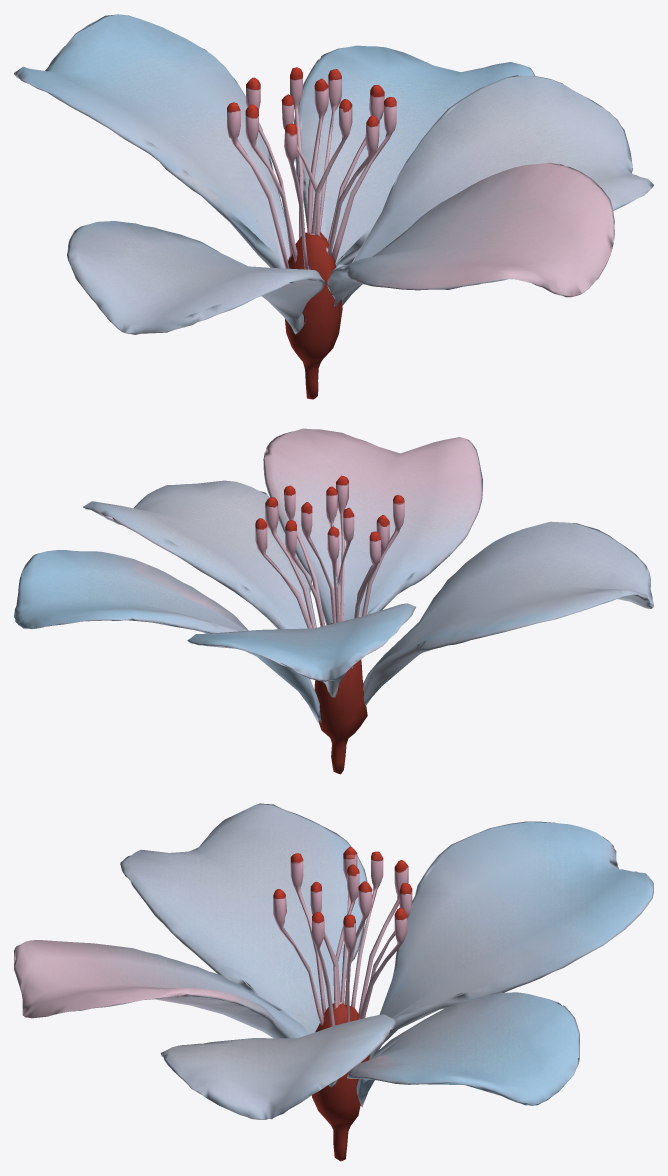
The model's file is bloom2.glb.
3 renders of one model, top to bottom at view 1: azimuth 30°, elevation 25°; view 2: azimuth 150°, elevation 25°; view 3: azimuth 270°, elevation 25°, orthographic. The views are drawn at different scales.
Visible parts, largest first — view 1: world; view 2: world; view 3: world.
Part boxes in pixels (x1,y1,x2,y2): world: (14,14,653,399); world: (14,428,653,774); world: (14,803,653,1161).
Bounding box in the file's own units: 0.9941 × 0.498 × 0.998.
Materials: 1 (1 with a texture image).
